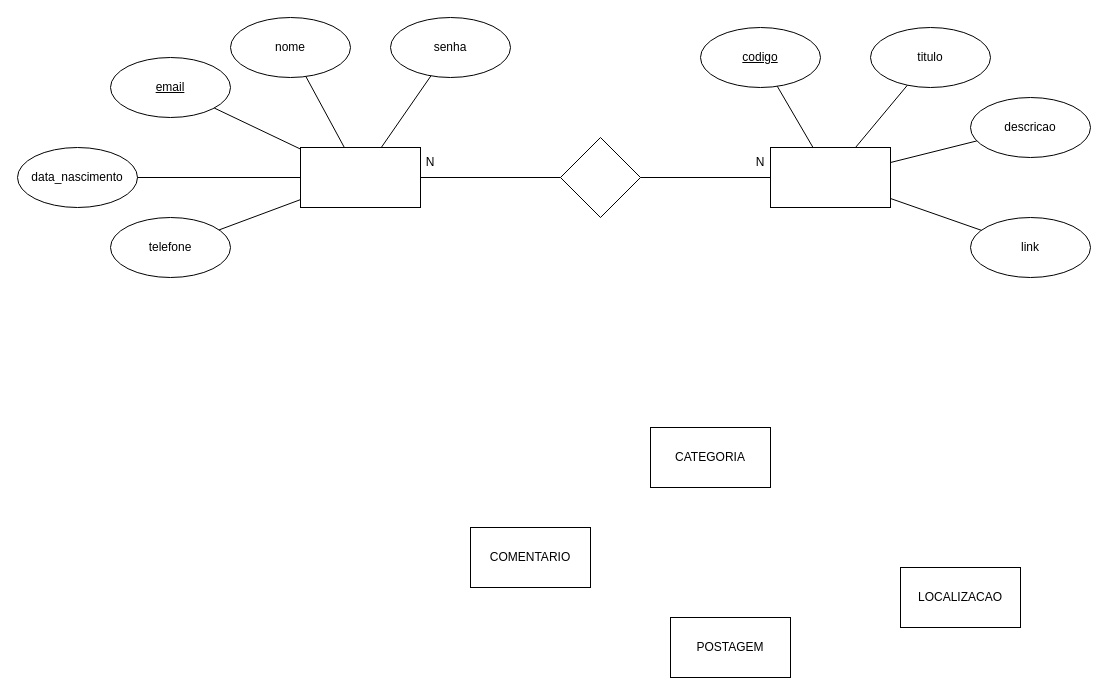
Image size: 1108x695. Some labels were removed from this diagram. Each missing label, with the centre of its shape:
"GRUPO" belongs at point (830, 177).
"USUARIO" belongs at point (360, 177).
